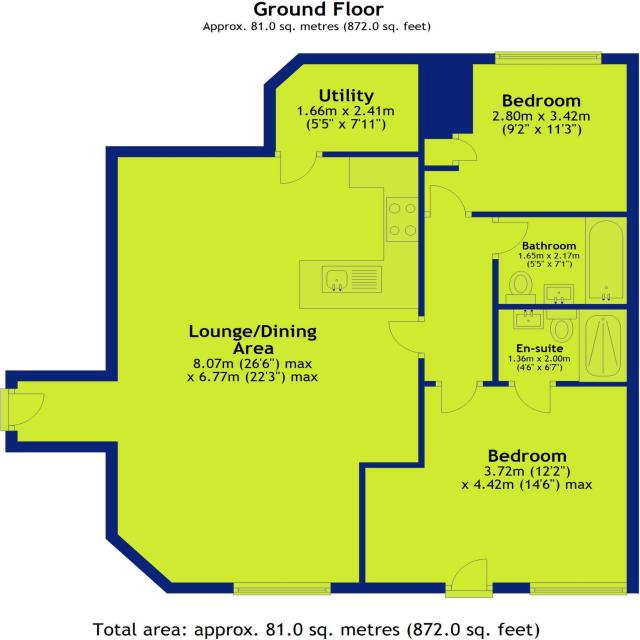DOOR: (444, 557, 493, 598), (0, 388, 46, 431), (273, 151, 324, 185), (491, 216, 530, 260), (387, 315, 425, 360), (434, 380, 484, 414), (507, 380, 556, 414), (424, 184, 472, 218), (451, 133, 478, 166)
ROOM: (359, 382, 640, 599), (417, 53, 640, 218)
